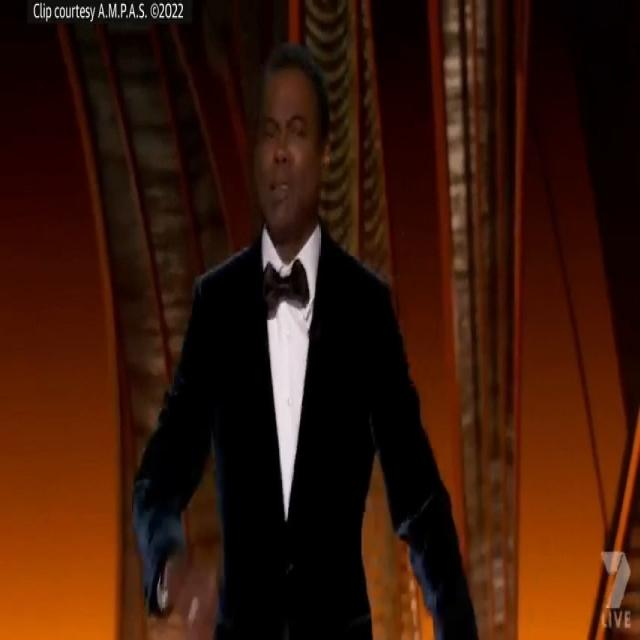non-fight: (112, 1, 502, 640)
